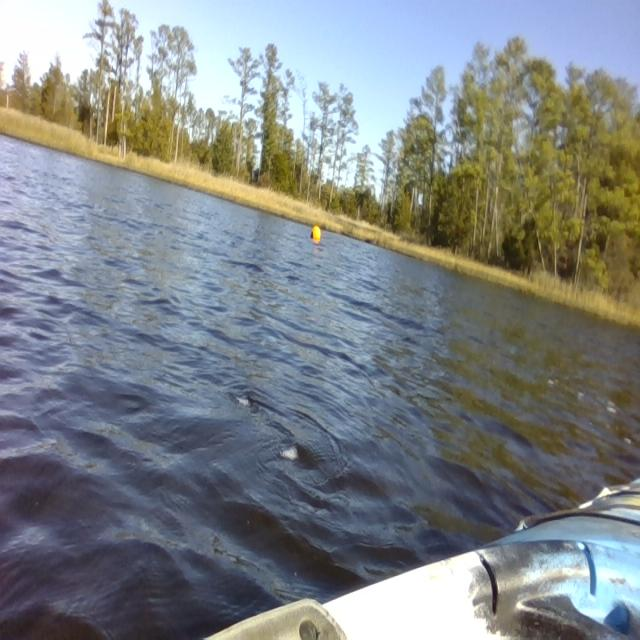Buoy: (309, 222, 323, 246)
